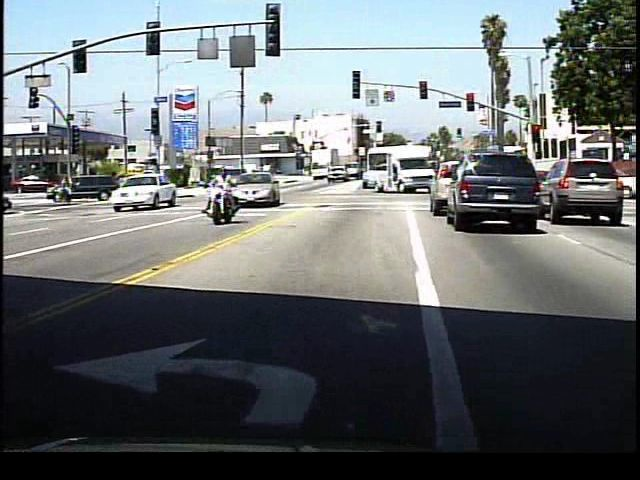person: (208, 169, 242, 225)
